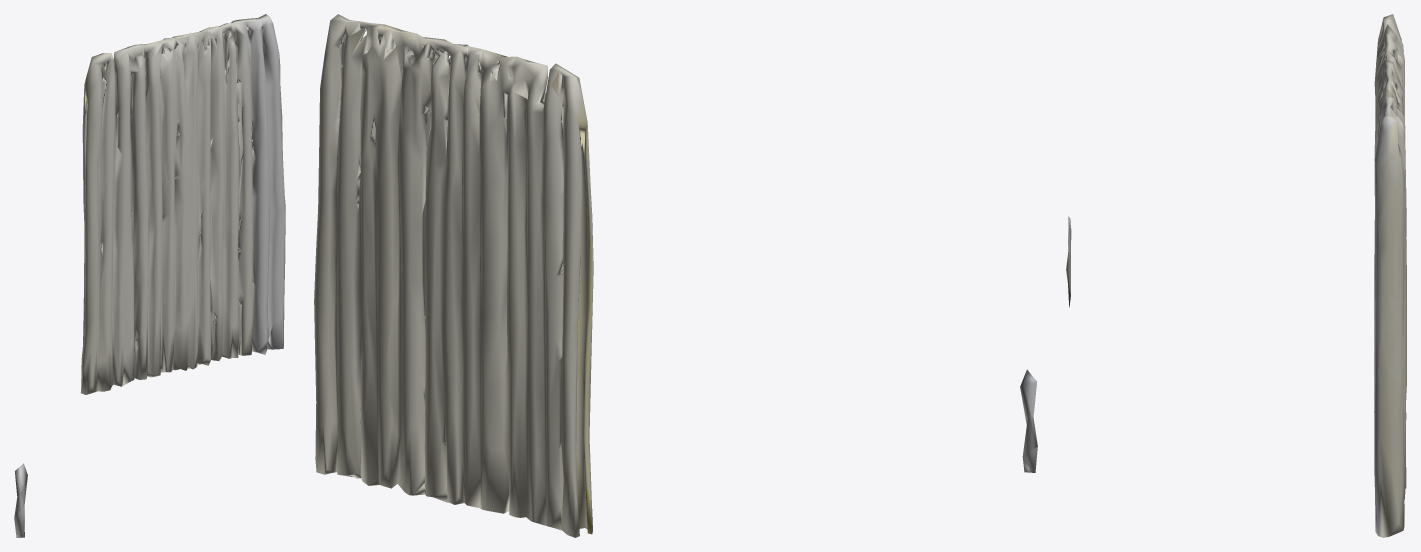
The model's file is 实验记录本.glb.
3 views of the same model, side by side, from view 1: azimuth 30°, elevation 25°; view 2: azimuth 150°, elevation 25°; view 3: azimuth 270°, elevation 25° (orthographic). The views are drawn at different scales.
Parts seen in each view (by area): view 1: tmpwi1w_et5_simplified; view 2: tmpwi1w_et5_simplified; view 3: tmpwi1w_et5_simplified.
Part boxes in pixels (<box>): tmpwi1w_et5_simplified: <box>14,14,285,537</box>; tmpwi1w_et5_simplified: <box>314,14,1037,537</box>; tmpwi1w_et5_simplified: <box>1066,14,1406,537</box>.
Bounding box in the file's own units: 2.01 × 1.65 × 1.22.
1 material, 1 textured.
